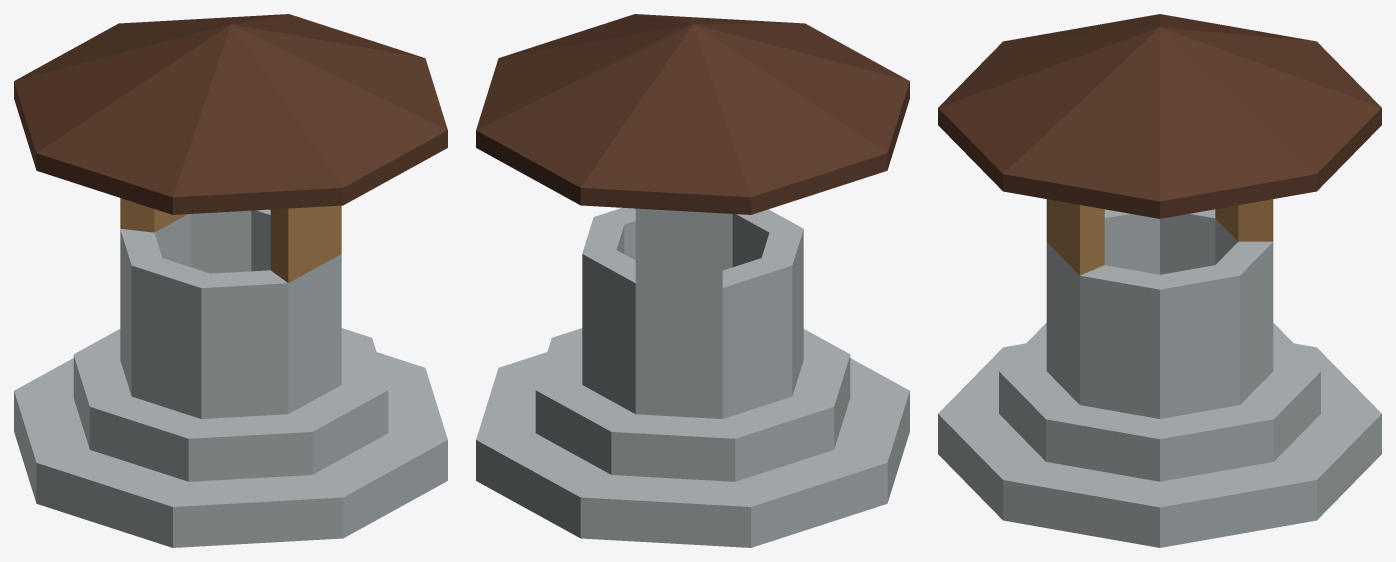
Rendered from Well.fbx.
3 views of the same model, side by side, from view 1: azimuth 30°, elevation 25°; view 2: azimuth 150°, elevation 25°; view 3: azimuth 270°, elevation 25° (orthographic).
Visible parts, largest first — view 1: Cylinder; view 2: Cylinder; view 3: Cylinder.
Boxes of the visible parts, x1,y1,x2,y2 form: Cylinder: (14, 14, 447, 547); Cylinder: (476, 14, 909, 547); Cylinder: (938, 14, 1381, 547).
Size of the model in its own units: 260 by 276 by 260.
